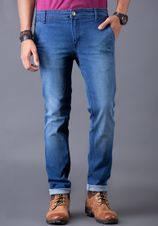jeans: (29, 9, 114, 194)
